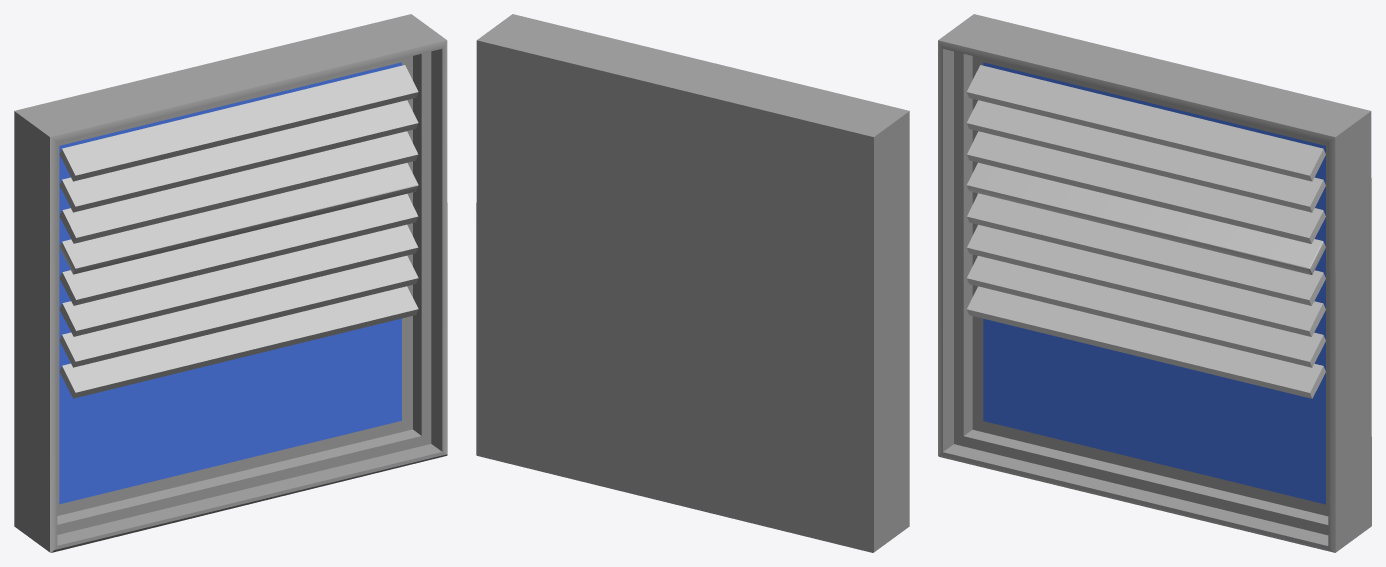
File: Window.fbx
3 views of the same model, side by side, from view 1: azimuth 30°, elevation 25°; view 2: azimuth 150°, elevation 25°; view 3: azimuth 330°, elevation 25° (orthographic).
Visible parts, largest first — view 1: Window; view 2: Window; view 3: Window.
Part boxes in pixels (x1=…): Window: x1=14, y1=14, x2=447, y2=552; Window: x1=476, y1=14, x2=909, y2=552; Window: x1=938, y1=14, x2=1371, y2=552.
Bounding box in the file's own units: 291 × 291 × 48.53.
1 material, 1 textured.
